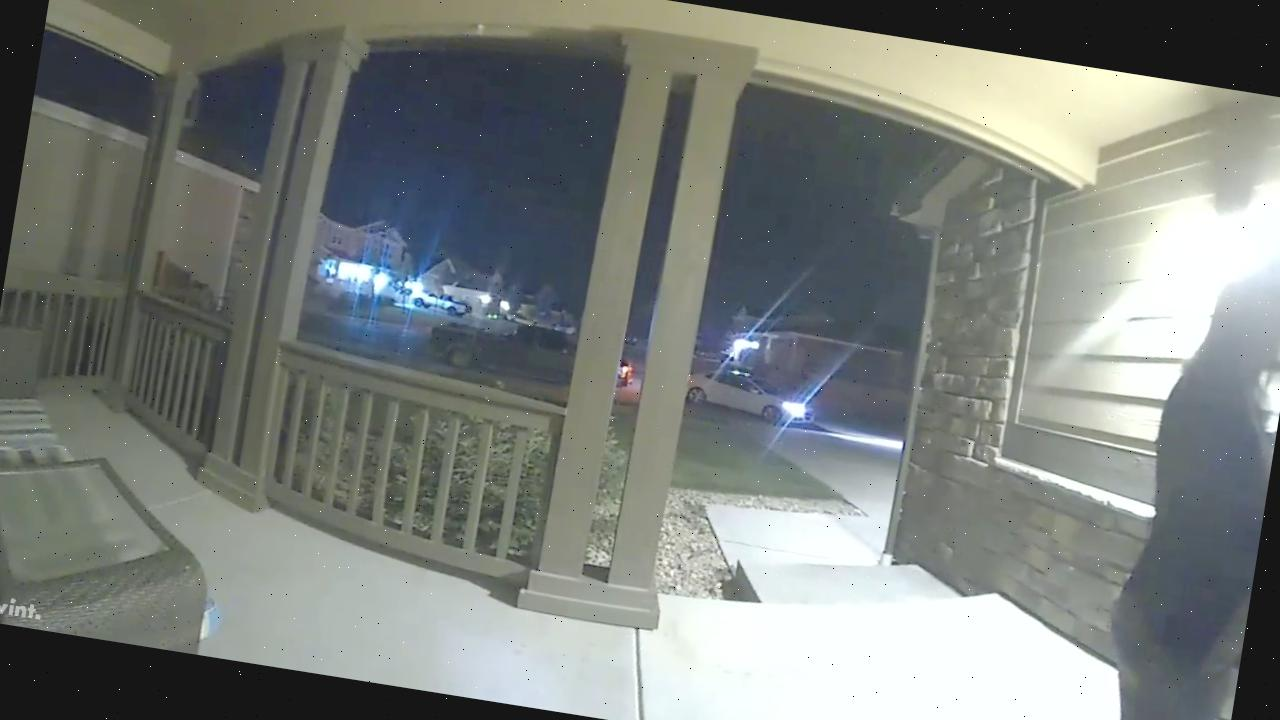suspicion: (1077, 227, 1280, 720)
